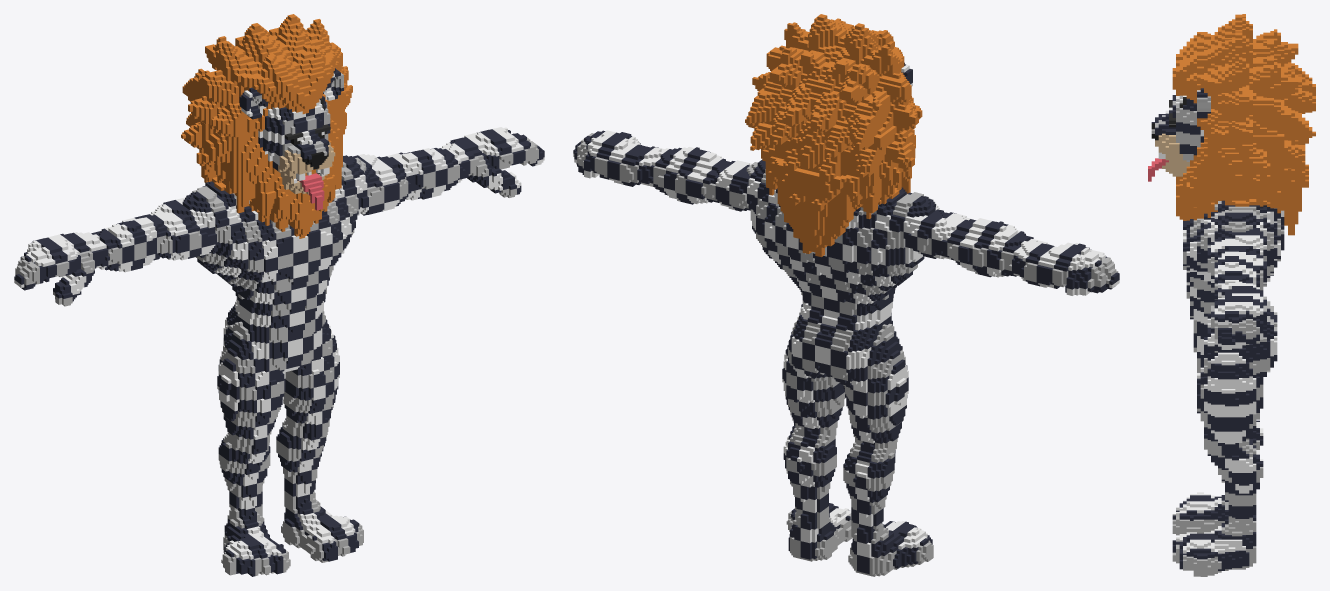
Rendered from 91-jXIluTk8.glb.
3 renders of one model, left to right at view 1: azimuth 30°, elevation 25°; view 2: azimuth 150°, elevation 25°; view 3: azimuth 270°, elevation 25°, orthographic. The views are drawn at different scales.
Visible parts, largest first — view 1: tongue_out; view 2: tongue_out; view 3: tongue_out.
Part boxes in pixels (x1,y1,x2,y2): tongue_out: (14, 14, 544, 576); tongue_out: (573, 14, 1119, 576); tongue_out: (1148, 14, 1315, 576).
Bounding box in the file's own units: 17.2 × 16.5 × 4.8.
4 materials, 4 textured.
